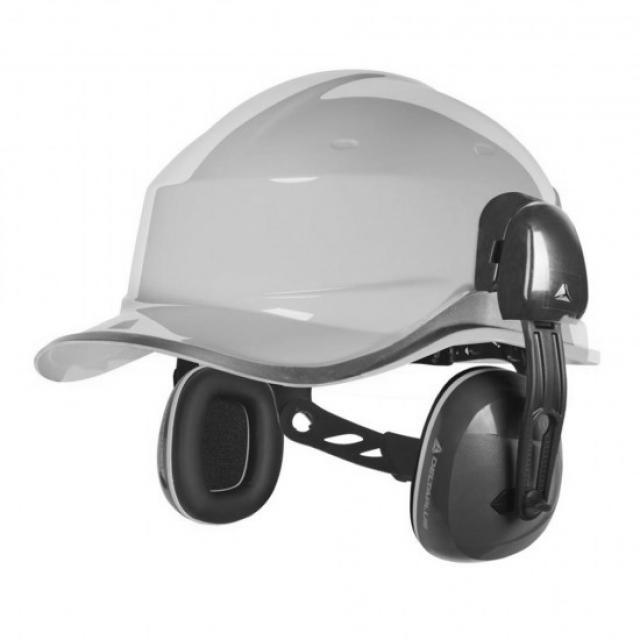safety_helmet: (33, 70, 591, 566)
